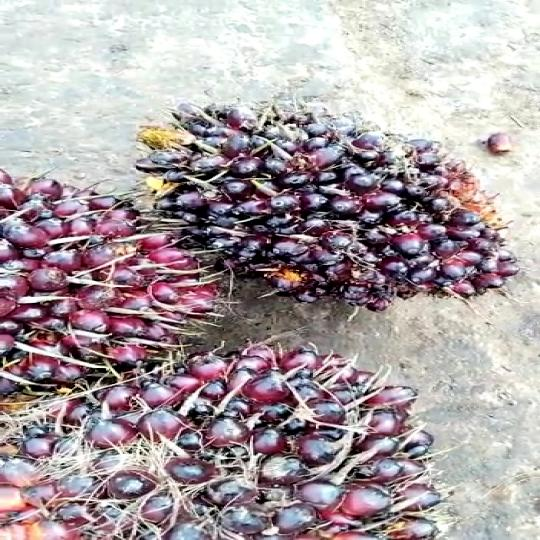kurang masak: (0, 344, 503, 540), (130, 83, 540, 311), (0, 180, 240, 396)
